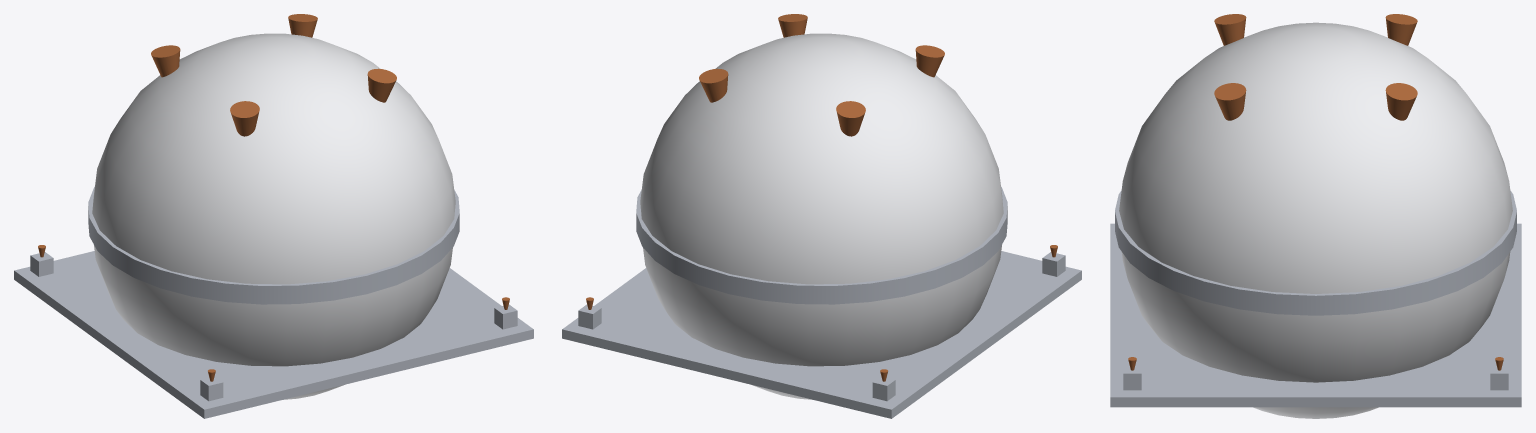
File: mono_small.glb
The picture shows the model from 3 angles, left to right: view 1: azimuth 30°, elevation 25°; view 2: azimuth 150°, elevation 25°; view 3: azimuth 270°, elevation 25°; orthographic projection. The views are drawn at different scales.
Visible parts, largest first — view 1: ms_tank, ms_deck, ms_girdle, ms_main_noz_2, ms_main_noz_3, ms_main_noz_1, ms_main_noz_0, ms_rcs_block_0, ms_rcs_block_1, ms_rcs_block_2; view 2: ms_tank, ms_deck, ms_girdle, ms_main_noz_1, ms_main_noz_0, ms_main_noz_2, ms_main_noz_3, ms_rcs_block_2, ms_rcs_block_3, ms_rcs_block_0; view 3: ms_tank, ms_deck, ms_girdle, ms_main_noz_0, ms_main_noz_3, ms_main_noz_1, ms_main_noz_2, ms_rcs_block_1, ms_rcs_block_3.
Part boxes in pixels (box(x1,y1,x2,y2)): ms_tank: box(92, 33, 455, 399); ms_deck: box(14, 251, 533, 418); ms_girdle: box(88, 186, 459, 304); ms_main_noz_2: box(230, 101, 259, 136); ms_main_noz_3: box(367, 68, 396, 102); ms_main_noz_1: box(151, 45, 180, 77); ms_main_noz_0: box(288, 14, 317, 37); ms_rcs_block_0: box(200, 376, 223, 401); ms_rcs_block_1: box(494, 304, 517, 329); ms_rcs_block_2: box(30, 252, 53, 276); ms_tank: box(640, 33, 1003, 399); ms_deck: box(562, 251, 1081, 418); ms_girdle: box(636, 186, 1007, 304); ms_main_noz_1: box(836, 101, 865, 136); ms_main_noz_0: box(699, 68, 728, 102); ms_main_noz_2: box(915, 45, 944, 77); ms_main_noz_3: box(778, 14, 807, 37); ms_rcs_block_2: box(872, 376, 895, 401); ms_rcs_block_3: box(578, 304, 601, 329); ms_rcs_block_0: box(1042, 252, 1065, 276); ms_tank: box(1119, 22, 1512, 418); ms_deck: box(1110, 223, 1521, 407); ms_girdle: box(1115, 190, 1516, 315); ms_main_noz_0: box(1385, 83, 1417, 120); ms_main_noz_3: box(1214, 83, 1246, 120); ms_main_noz_1: box(1385, 14, 1417, 45); ms_main_noz_2: box(1214, 14, 1246, 45); ms_rcs_block_1: box(1123, 366, 1141, 390); ms_rcs_block_3: box(1490, 366, 1508, 390).
Bounding box in the file's own units: 0.56 × 0.54 × 0.56.
